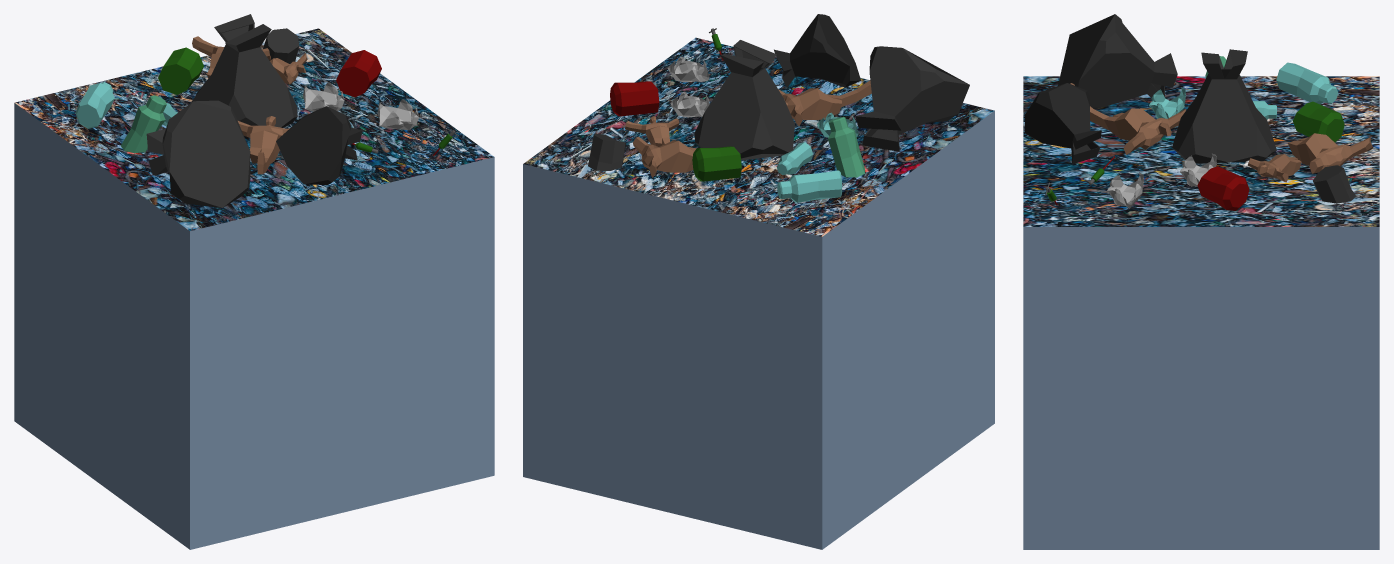
File: rubbish tile.fbx
The picture shows the model from 3 angles, left to right: view 1: azimuth 30°, elevation 25°; view 2: azimuth 150°, elevation 25°; view 3: azimuth 270°, elevation 25°; orthographic projection. The views are drawn at different scales.
Visible parts, largest first — view 1: trash ground, trash bag.001, trash bag, trash bag.002, Can.001, Can.002, old toy, WaterBottle.002, WaterBottle.001, Can, paper.002, paper.001 (+1 smaller); view 2: trash ground, trash bag, trash bag.001, trash bag.002, old toy, WaterBottle.001, old toy.002, Can.001, WaterBottle.002, Can.002, Can, old toy.001 (+3 smaller); view 3: trash ground, trash bag, trash bag.001, trash bag.002, old toy, old toy.002, WaterBottle.001, Can.001, Can.002, Can, old toy.001, paper.002 (+2 smaller).
Part boxes in pixels (box(x1,y1,x2,y2)): trash ground: box(14, 28, 494, 549); trash bag.001: box(146, 100, 250, 207); trash bag: box(191, 14, 297, 127); trash bag.002: box(276, 106, 362, 184); Can.001: box(336, 50, 381, 97); Can.002: box(158, 47, 203, 94); old toy: box(238, 116, 289, 174); WaterBottle.002: box(121, 95, 166, 153); WaterBottle.001: box(75, 82, 114, 128); Can: box(263, 28, 299, 63); paper.002: box(377, 99, 418, 130); paper.001: box(303, 82, 344, 111); trash ground: box(523, 37, 994, 549); trash bag: box(694, 40, 794, 160); trash bag.001: box(855, 46, 969, 151); trash bag.002: box(774, 14, 860, 87); old toy: box(778, 80, 871, 126); WaterBottle.001: box(777, 170, 841, 202); old toy.002: box(633, 136, 696, 177); Can.001: box(610, 81, 659, 116); WaterBottle.002: box(828, 116, 864, 177); Can.002: box(692, 146, 741, 181); Can: box(588, 133, 625, 170); old toy.001: box(625, 116, 679, 146); trash ground: box(1023, 76, 1379, 549); trash bag: box(1172, 49, 1276, 163); trash bag.001: box(1058, 14, 1177, 108); trash bag.002: box(1025, 83, 1101, 164); old toy: box(1070, 83, 1185, 154); old toy.002: box(1288, 133, 1373, 173); WaterBottle.001: box(1276, 62, 1338, 104); Can.001: box(1197, 166, 1249, 210); Can.002: box(1293, 101, 1344, 142); Can: box(1313, 165, 1355, 203); old toy.001: box(1248, 154, 1301, 182); paper.002: box(1107, 172, 1143, 208).
Bounding box in the file's own units: 100 × 130 × 100.
Materials: 11 (1 with a texture image).
